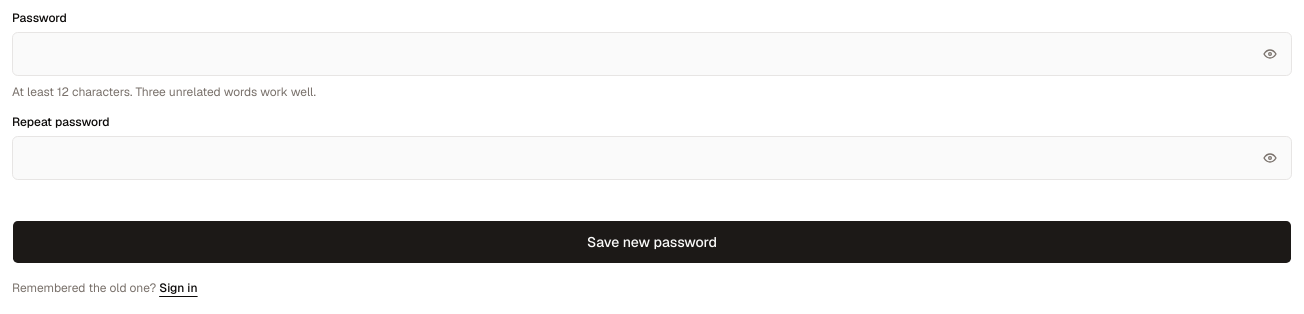
Test: ResetPasswordForm › offers a new link when the token is spent by the time it is used
In the password field labelled "Password": (652, 54) x1=12 y1=32 x2=1292 y2=76, type "beans-on-toast-every-day"
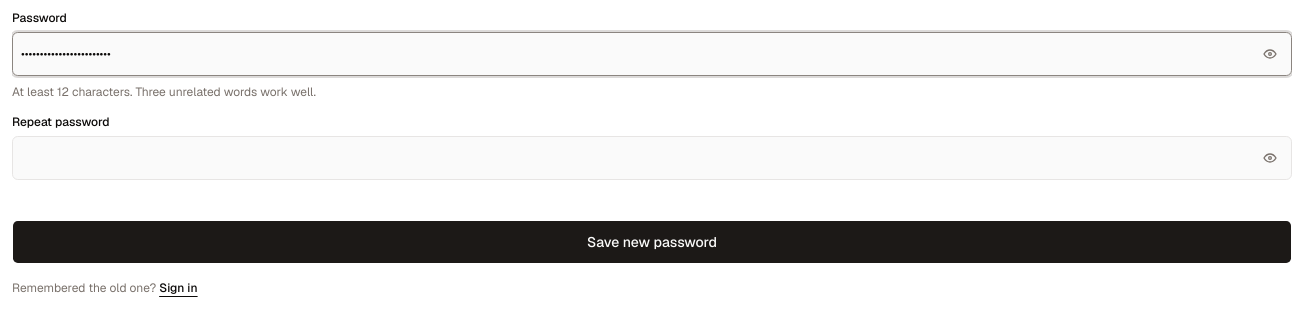
In the password field labelled "Repeat password": (652, 158) x1=12 y1=136 x2=1292 y2=180, type "beans-on-toast-every-day"
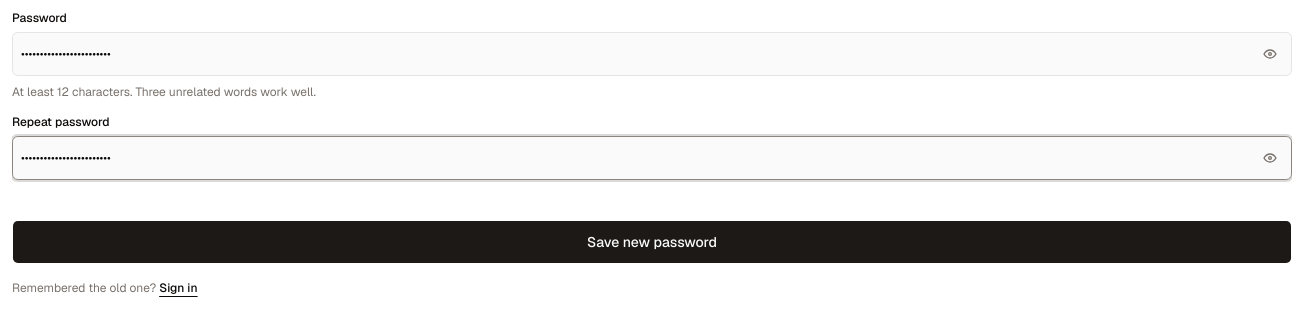
Click the button "Save new password": (652, 242) x1=12 y1=220 x2=1292 y2=264
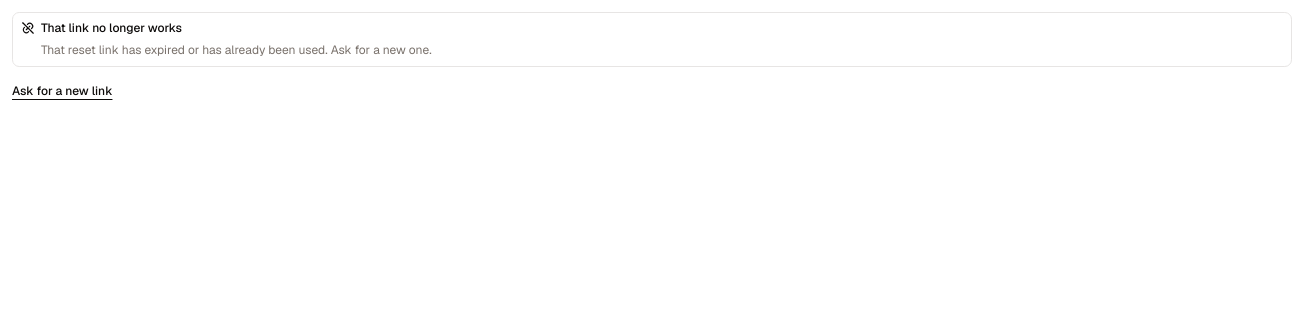
Result: the text "That reset link has expired or has already been used. Ask for a new one." is shown at x1=41 y1=42 x2=432 y2=58
